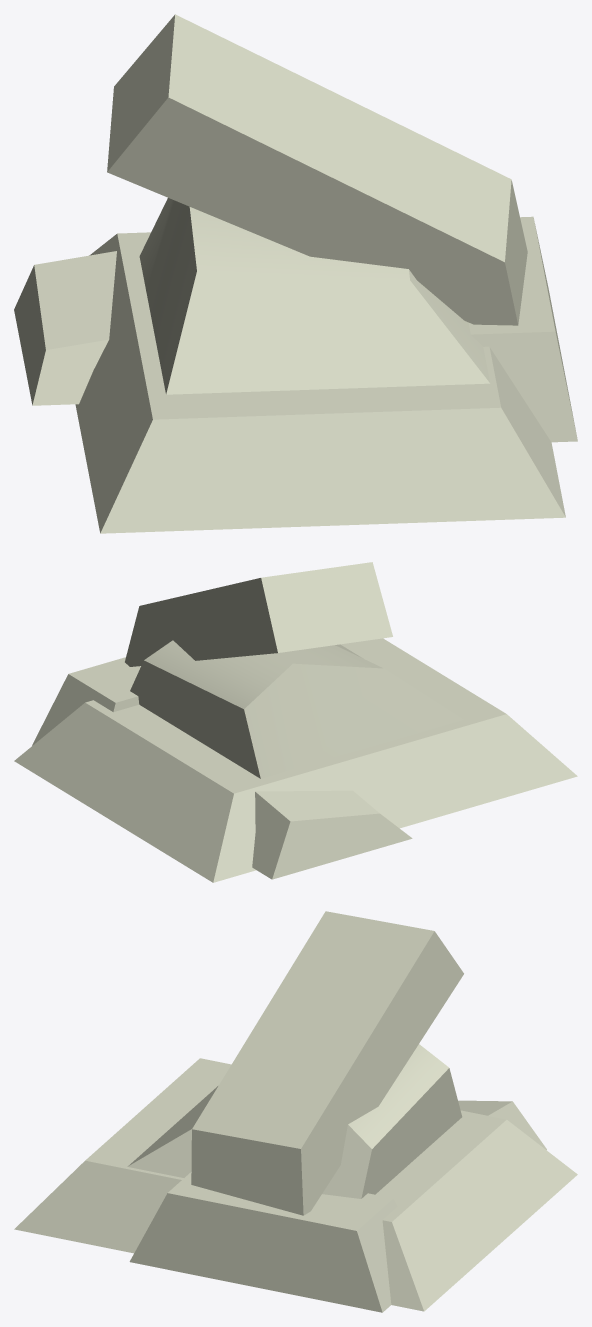
File: weepingRock.fbx
3 views of the same model, one above another, from view 1: azimuth 30°, elevation 25°; view 2: azimuth 150°, elevation 25°; view 3: azimuth 270°, elevation 25° (orthographic). The views are drawn at different scales.
Visible parts, largest first — view 1: rock_2_geo, rock_4_geo, rock_3_geo, rock_1_geo, rock_5_geo; view 2: rock_2_geo, rock_3_geo, rock_4_geo, rock_1_geo, rock_5_geo; view 3: rock_4_geo, rock_2_geo, rock_5_geo, rock_3_geo, rock_1_geo.
Boxes of the visible parts, bbox=[...] form: rock_2_geo: bbox=[75, 232, 565, 533]; rock_4_geo: bbox=[107, 14, 527, 325]; rock_3_geo: bbox=[139, 198, 490, 394]; rock_1_geo: bbox=[14, 251, 116, 405]; rock_5_geo: bbox=[468, 216, 577, 442]; rock_2_geo: bbox=[14, 638, 577, 882]; rock_3_geo: bbox=[130, 640, 463, 778]; rock_4_geo: bbox=[125, 562, 392, 666]; rock_1_geo: bbox=[252, 790, 412, 879]; rock_5_geo: bbox=[32, 657, 140, 745]; rock_4_geo: bbox=[191, 911, 463, 1215]; rock_2_geo: bbox=[14, 1058, 577, 1311]; rock_5_geo: bbox=[129, 1172, 397, 1312]; rock_3_geo: bbox=[127, 1044, 462, 1198]; rock_1_geo: bbox=[458, 1100, 546, 1149].
Bounding box in the file's own units: 7.64 × 4.11 × 8.26.
